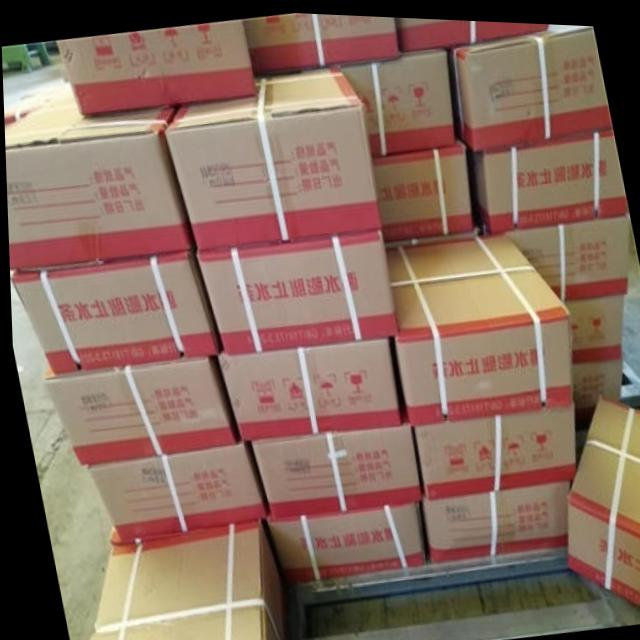box: (164, 62, 381, 250), (384, 229, 571, 425), (4, 84, 194, 271), (8, 250, 222, 377), (194, 227, 394, 352), (86, 521, 281, 640), (42, 351, 236, 466), (445, 19, 612, 149), (57, 17, 257, 117), (248, 406, 420, 520), (215, 333, 399, 439), (83, 438, 264, 542), (474, 122, 627, 232), (563, 386, 640, 604), (411, 401, 573, 496), (262, 498, 422, 582), (340, 42, 456, 153), (418, 476, 567, 561), (505, 208, 629, 298), (372, 134, 473, 244), (562, 290, 624, 467), (242, 10, 401, 74), (396, 14, 549, 49), (3, 78, 67, 126)
